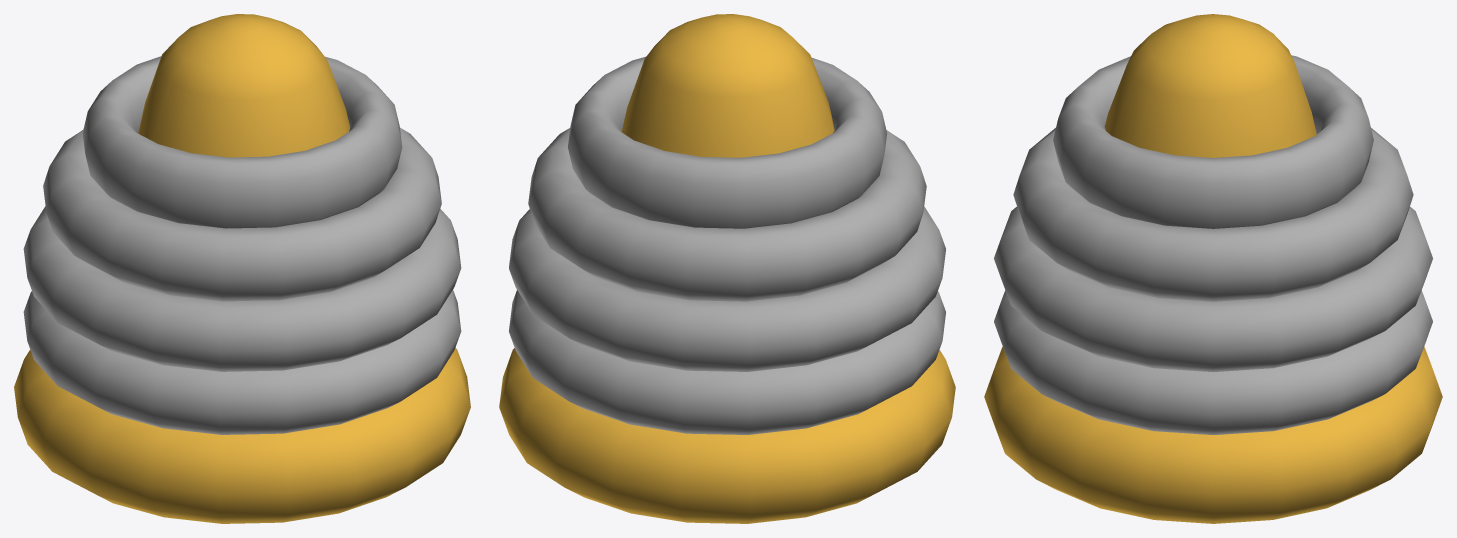
File: DGLXX_wood.fbx
3 renders of one model, left to right at view 1: azimuth 30°, elevation 25°; view 2: azimuth 150°, elevation 25°; view 3: azimuth 270°, elevation 25°, orthographic.
Visible parts, largest first — view 1: pTorus1, pTorus3, pTorus4, pTorus5, pTorus2, pCube_a; view 2: pTorus1, pTorus3, pTorus4, pTorus5, pTorus2, pCube_a; view 3: pTorus1, pTorus3, pTorus4, pTorus5, pTorus2, pCube_a.
Part boxes in pixels (bbox=[...]): pTorus1: bbox=[14, 348, 470, 523]; pTorus3: bbox=[23, 206, 461, 371]; pTorus4: bbox=[43, 127, 441, 301]; pTorus5: bbox=[82, 56, 402, 228]; pTorus2: bbox=[23, 290, 461, 434]; pCube_a: bbox=[138, 14, 349, 157]; pTorus1: bbox=[499, 348, 955, 523]; pTorus3: bbox=[509, 207, 945, 371]; pTorus4: bbox=[528, 128, 926, 301]; pTorus5: bbox=[567, 56, 887, 228]; pTorus2: bbox=[509, 290, 945, 434]; pCube_a: bbox=[622, 14, 834, 157]; pTorus1: bbox=[984, 346, 1442, 523]; pTorus3: bbox=[994, 207, 1432, 372]; pTorus4: bbox=[1013, 128, 1413, 301]; pTorus5: bbox=[1053, 55, 1373, 228]; pTorus2: bbox=[994, 290, 1432, 434]; pCube_a: bbox=[1104, 14, 1316, 157].
Bounding box in the file's own units: 45.62 × 45.98 × 45.62.
